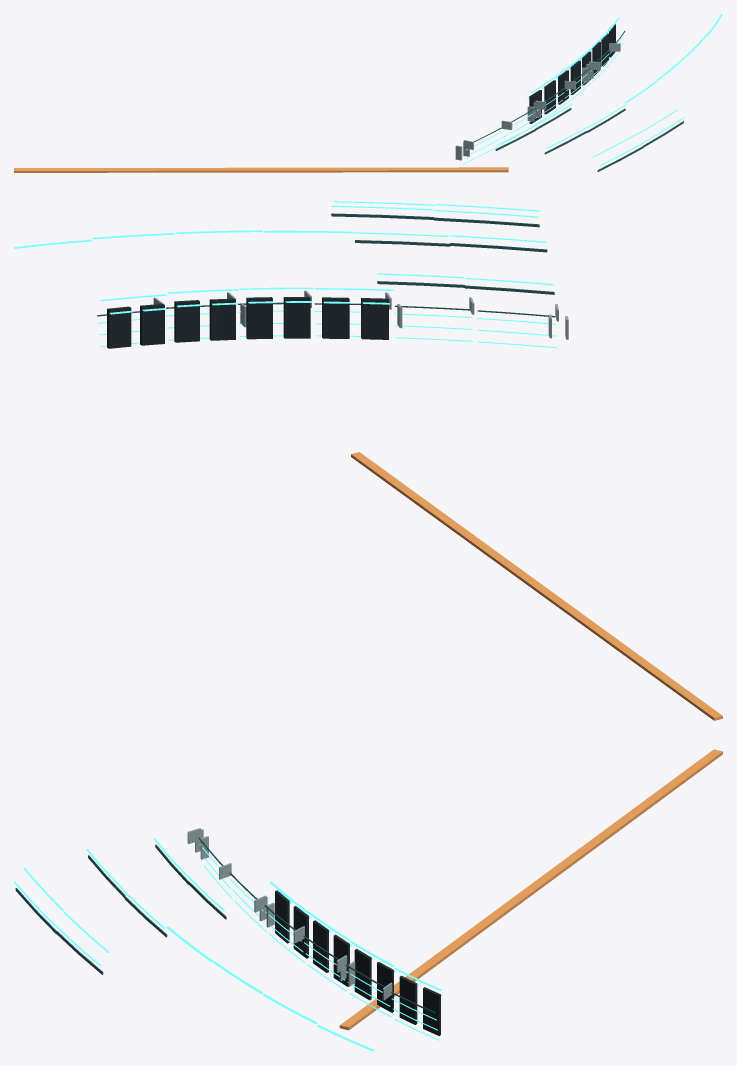
Rendered from Weather_Lung_Sector_10_Dressing.glb.
3 renders of one model, top to bottom at view 1: azimuth 30°, elevation 25°; view 2: azimuth 150°, elevation 25°; view 3: azimuth 270°, elevation 25°, orthographic. The views are drawn at different scales.
Visible parts, largest first — view 1: Weather_Lung_Sector_10_Dressing; view 2: Weather_Lung_Sector_10_Dressing; view 3: Weather_Lung_Sector_10_Dressing.
Part boxes in pixels (<box>): Weather_Lung_Sector_10_Dressing: <box>14,14,722,172</box>; Weather_Lung_Sector_10_Dressing: <box>14,201,722,720</box>; Weather_Lung_Sector_10_Dressing: <box>14,749,722,1051</box>.
Size of the model in its own units: 9044 by 1398 by 6111.
